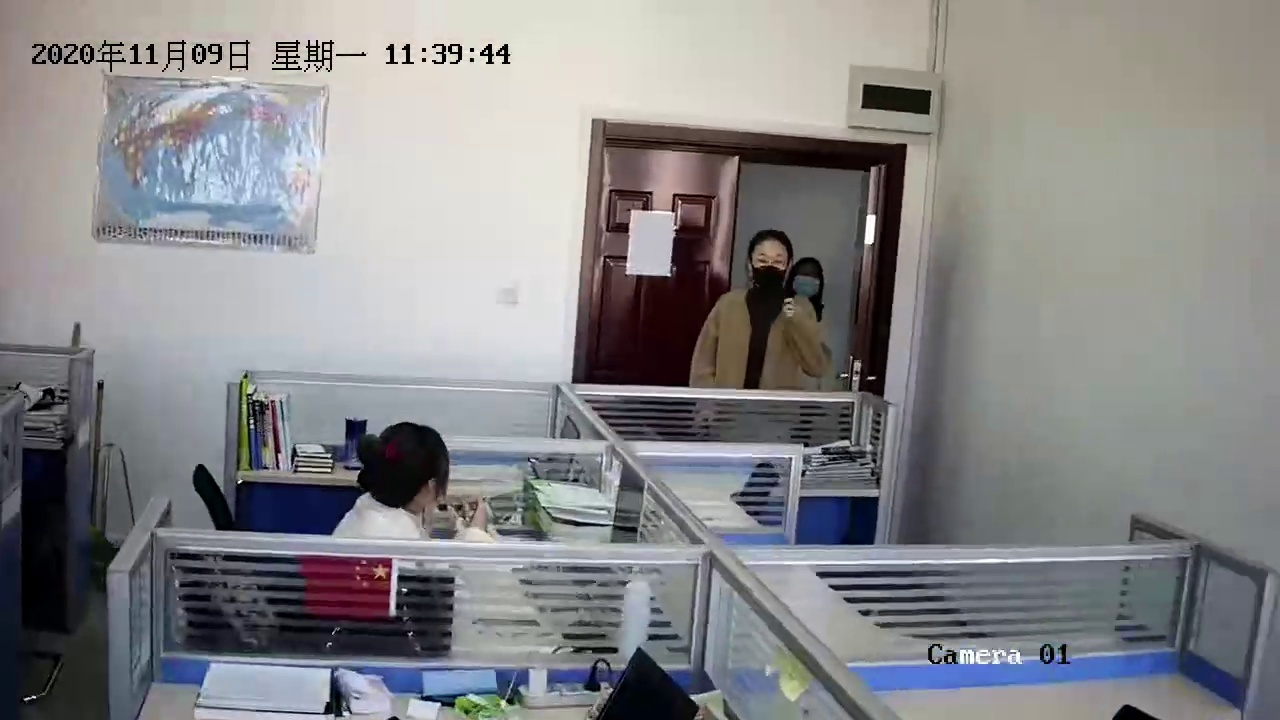mask: (747, 238, 789, 298), (793, 251, 825, 303)
